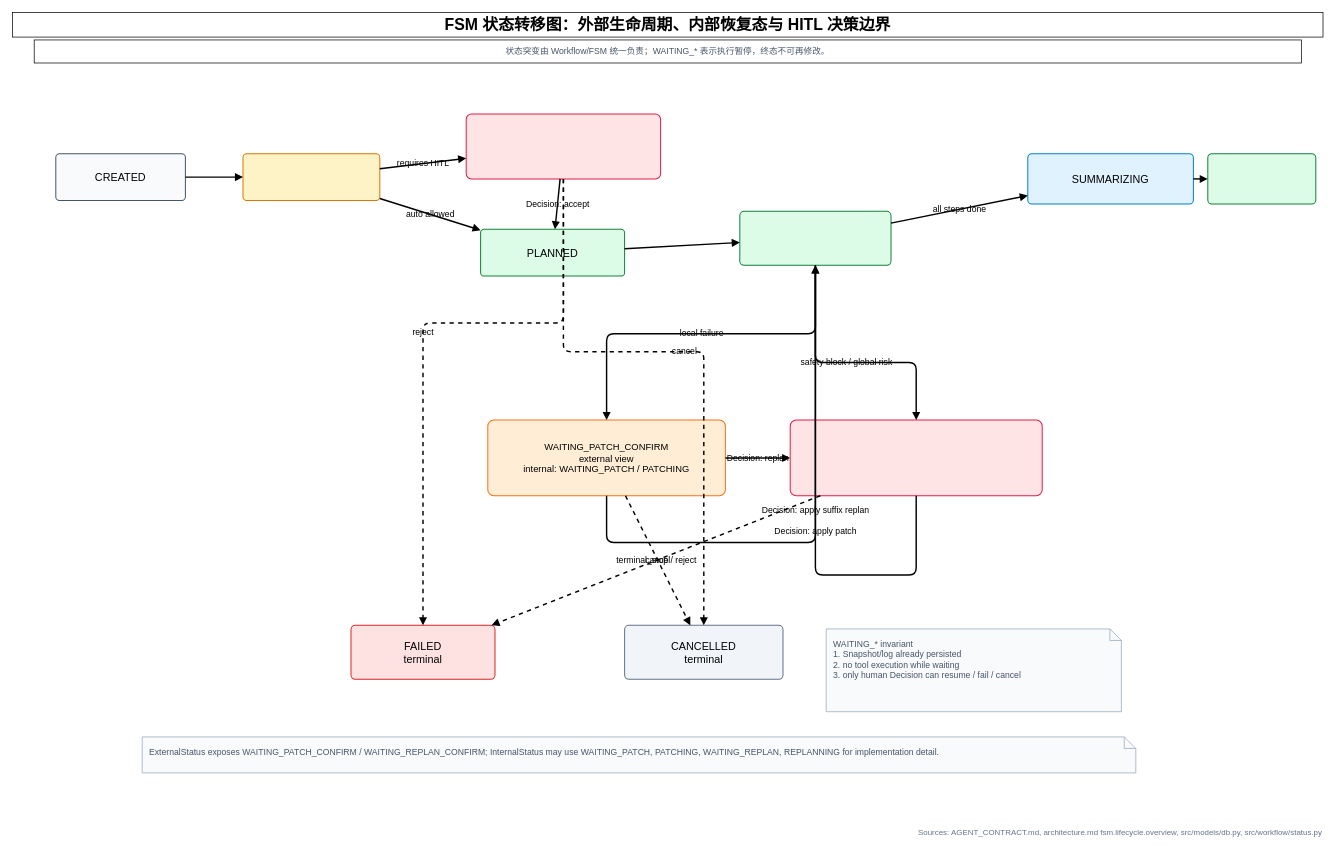
Image size: 1336x858. Some labels were removed from this diagram. Here are the shapes that lost their labels. From the top down, the centre of each, then its label:
At pixel 563 146: "WAITING_PLAN_CONFIRM PendingAction(plan_confirm)".
At pixel 311 177: "PLANNING".
At pixel 1261 178: "DONE".
At pixel 815 237: "RUNNING".
At pixel 915 457: "WAITING_REPLAN_CONFIRM external view internal: WAITING_REPLAN / REPLANNING".
